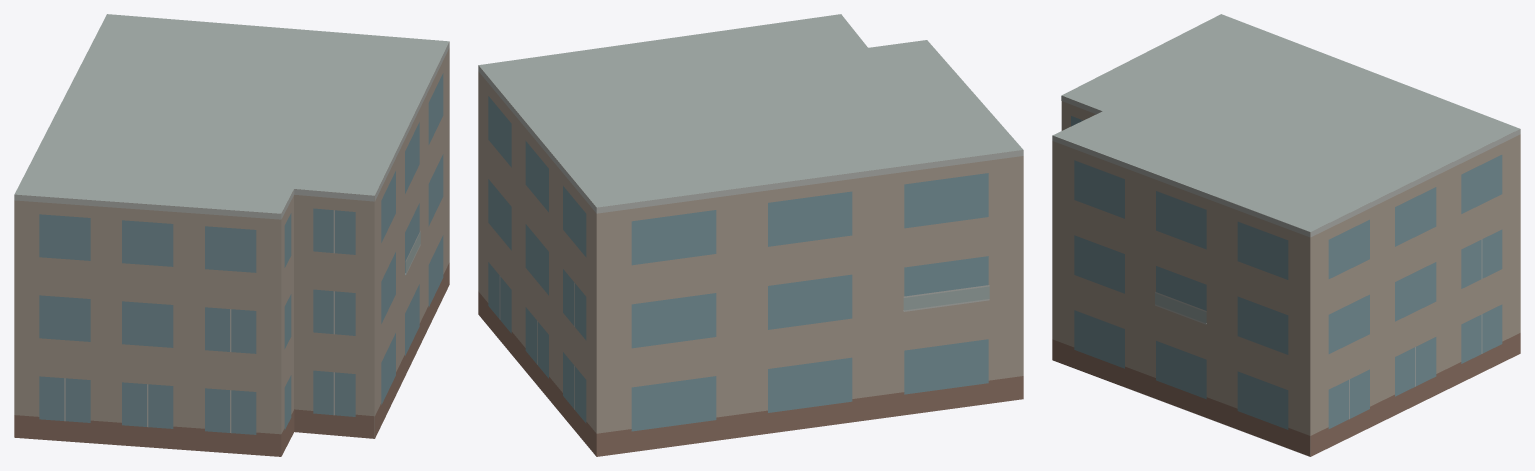
File: survey-upis-32522832.glb
3 renders of one model, left to right at view 1: azimuth 30°, elevation 25°; view 2: azimuth 150°, elevation 25°; view 3: azimuth 270°, elevation 25°, orthographic. The views are drawn at different scales.
Visible parts, largest first — view 1: survey-upis-32522832.tmp; view 2: survey-upis-32522832.tmp; view 3: survey-upis-32522832.tmp.
Boxes of the visible parts, <box> form: survey-upis-32522832.tmp: <box>14,14,449,456</box>; survey-upis-32522832.tmp: <box>478,14,1023,456</box>; survey-upis-32522832.tmp: <box>1052,14,1520,456</box>.
Bounding box in the file's own units: 21.03 × 10.1 × 19.07.
